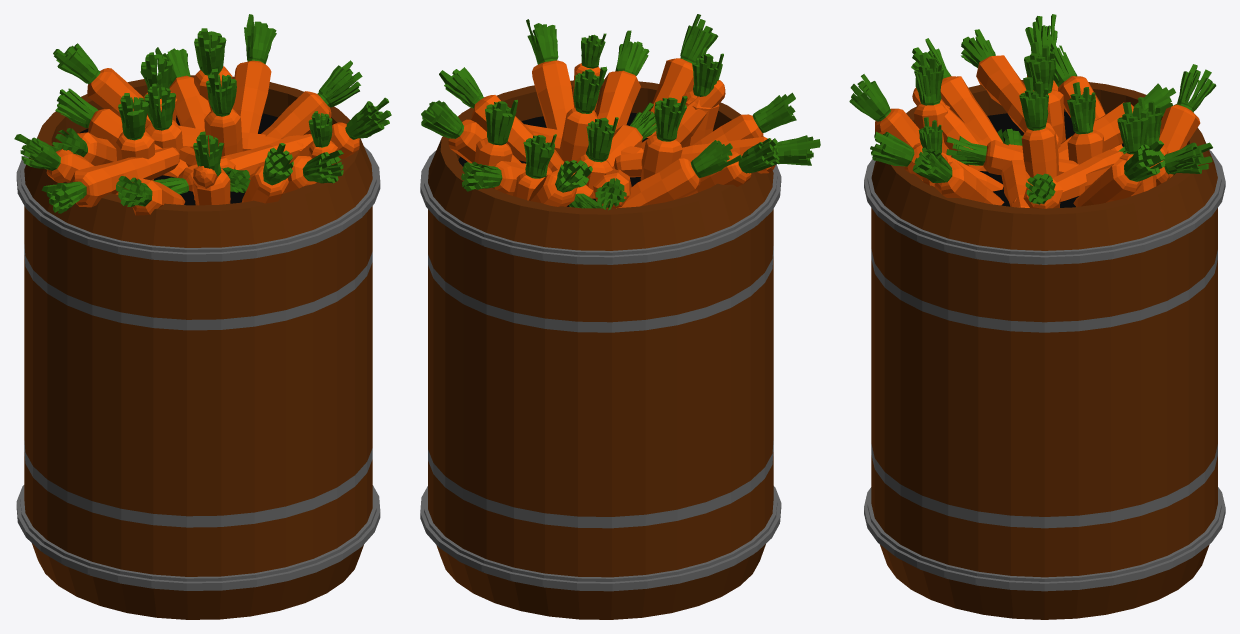
Rendered from CarrotBarrel.fbx.
The picture shows the model from 3 angles, left to right: view 1: azimuth 30°, elevation 25°; view 2: azimuth 150°, elevation 25°; view 3: azimuth 270°, elevation 25°; orthographic projection.
Visible parts, largest first — view 1: Cylinder, Cylinder.023; view 2: Cylinder, Cylinder.023; view 3: Cylinder, Cylinder.023.
Boxes of the visible parts, box(x1,y1,x2,y2) form: Cylinder: box(16, 75, 380, 619); Cylinder.023: box(14, 14, 391, 215); Cylinder: box(420, 80, 781, 619); Cylinder.023: box(421, 14, 820, 210); Cylinder: box(864, 80, 1225, 619); Cylinder.023: box(849, 14, 1216, 208).
Size of the model in its own units: 232 by 304 by 217.
